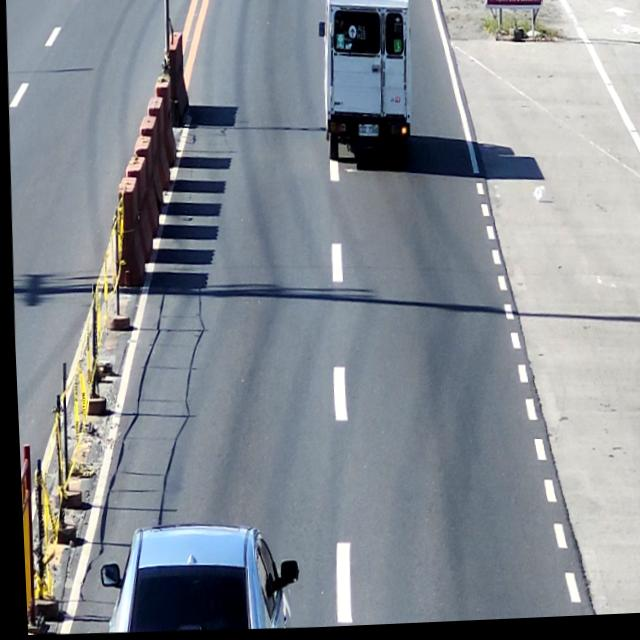Car: (97, 521, 292, 636), (320, 0, 414, 175)
License-Plate: (357, 122, 378, 143)
